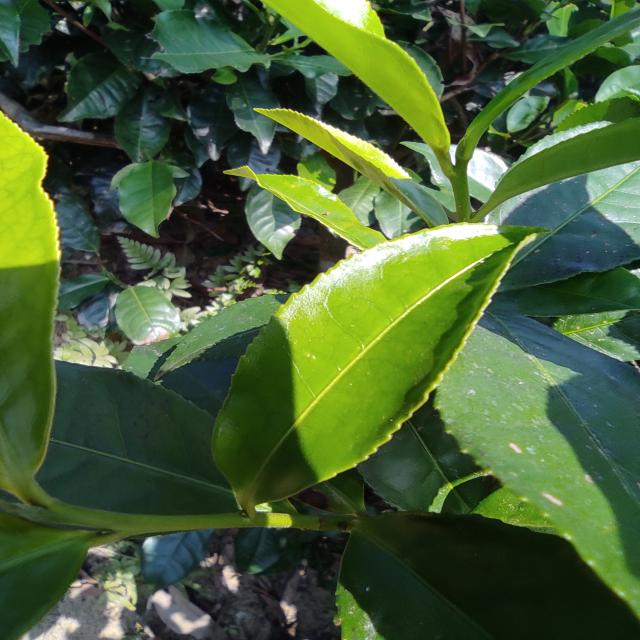Category C(4-7 days): (194, 194, 542, 508)
